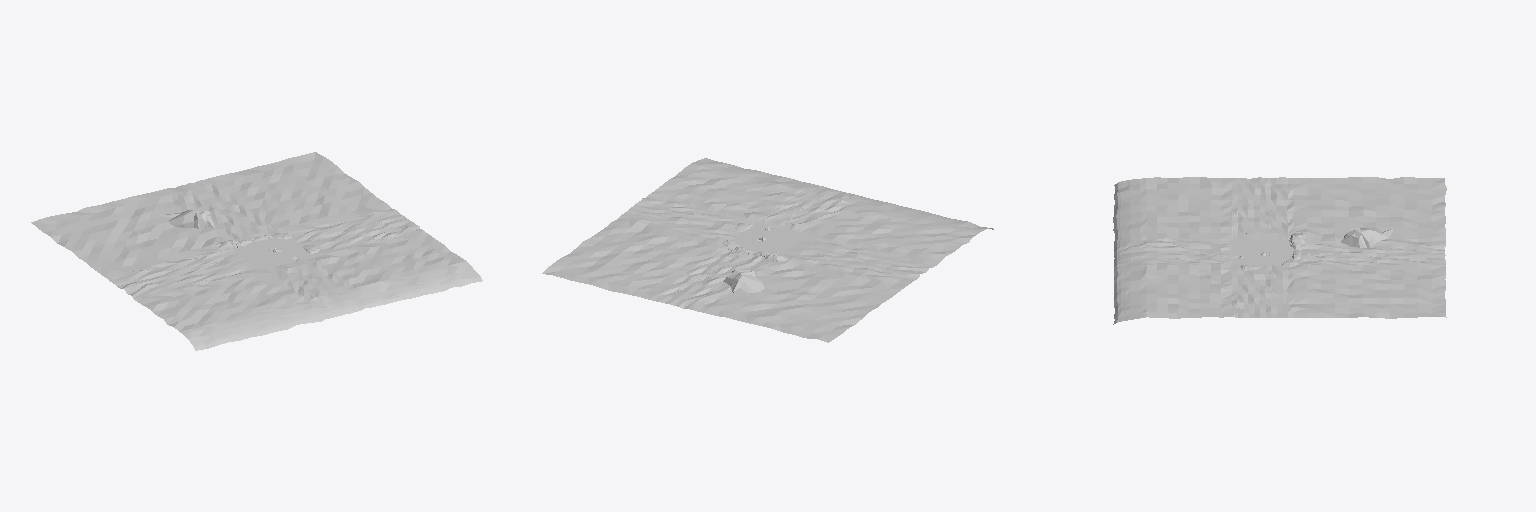
The model's file is terreno_02.obj.
The picture shows the model from 3 angles: view 1: azimuth 30°, elevation 25°; view 2: azimuth 150°, elevation 25°; view 3: azimuth 270°, elevation 25°; orthographic projection.
Visible parts, largest first — view 1: Plane.001_Plane.004; view 2: Plane.001_Plane.004; view 3: Plane.001_Plane.004.
Boxes of the visible parts, x1,y1,x2,y2 form: Plane.001_Plane.004: [31, 152, 482, 350]; Plane.001_Plane.004: [542, 158, 993, 342]; Plane.001_Plane.004: [1113, 177, 1446, 324].
Size of the model in its own units: 659 by 78.39 by 660.